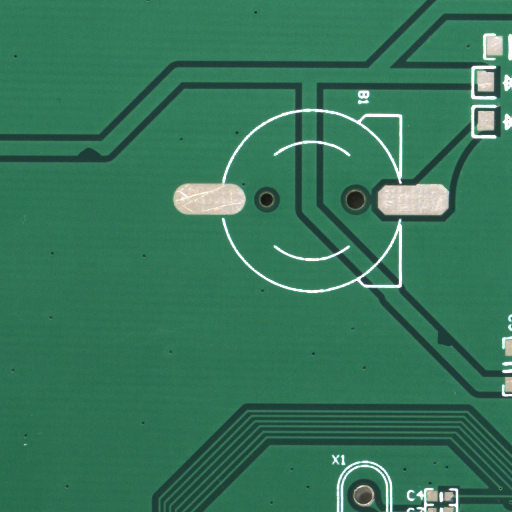Mouse_bite: (90, 153, 121, 172), (443, 337, 464, 362)
